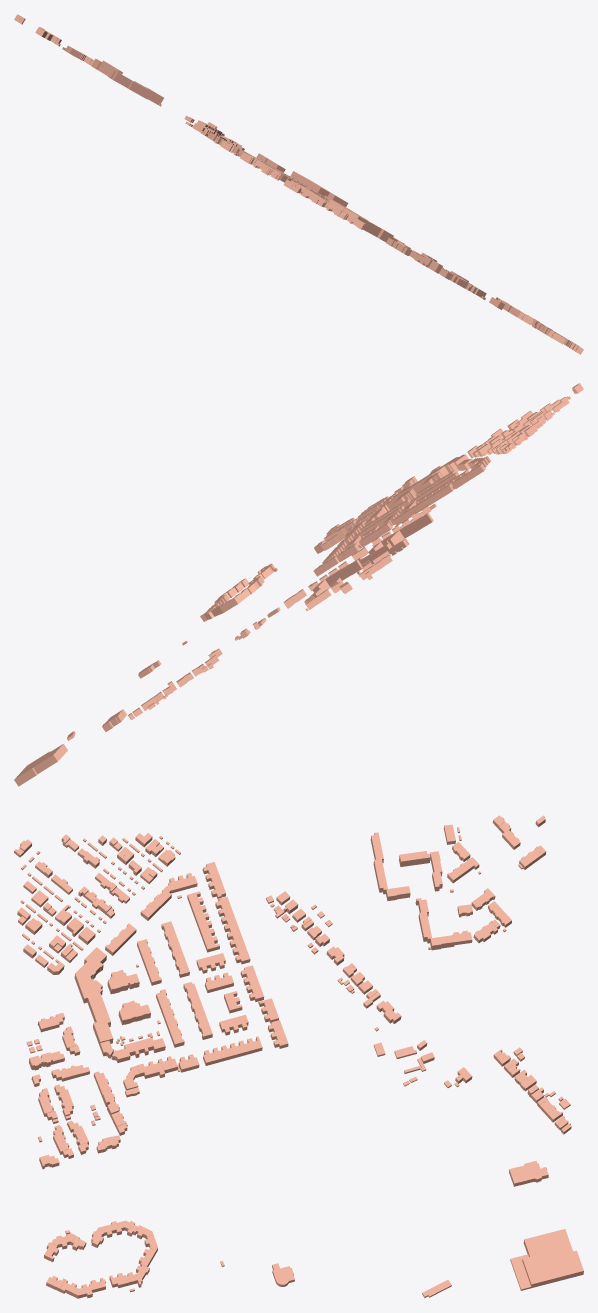
The picture shows the model from 3 angles, top to bottom: view 1: azimuth 30°, elevation 25°; view 2: azimuth 150°, elevation 25°; view 3: azimuth 270°, elevation 25°; orthographic projection. The views are drawn at different scales.
Size of the model in its own units: 509 by 378 by 642.
